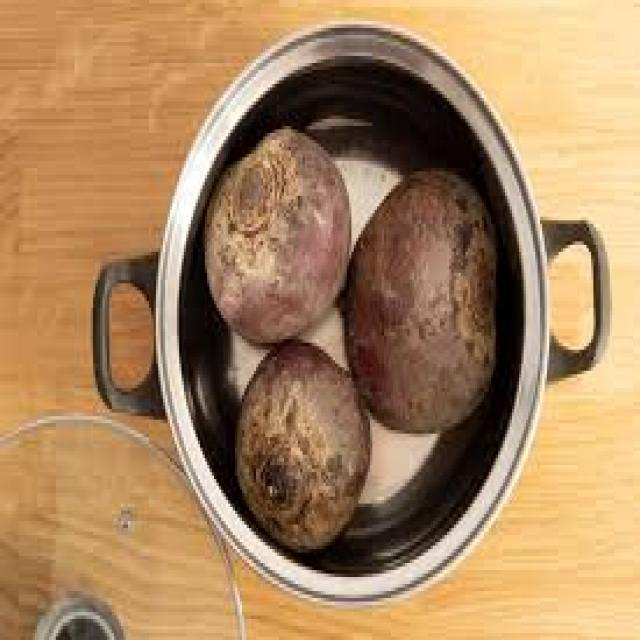organic waste: (342, 164, 496, 427), (203, 115, 349, 332), (230, 332, 368, 546)
